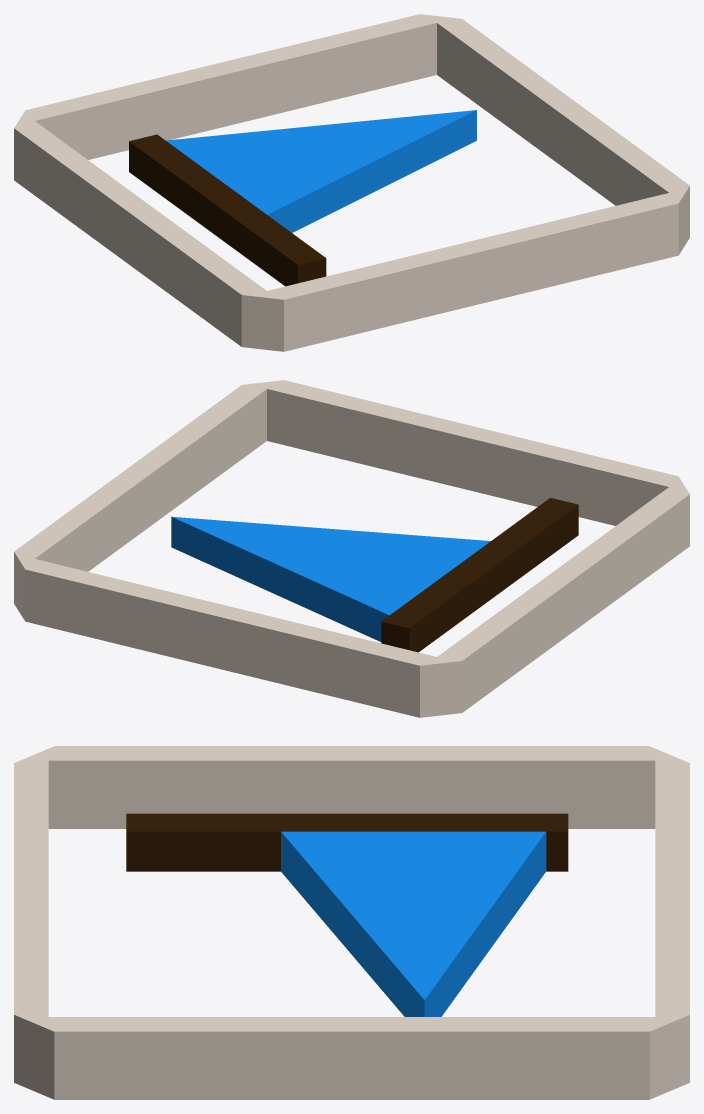
File: bonus_ship.glb
The picture shows the model from 3 angles, top to bottom: view 1: azimuth 30°, elevation 25°; view 2: azimuth 150°, elevation 25°; view 3: azimuth 270°, elevation 25°; orthographic projection. The views are drawn at different scales.
Visible parts, largest first — view 1: bonus_ship; view 2: bonus_ship; view 3: bonus_ship.
Part boxes in pixels (<box>): bonus_ship: <box>14,14,689,351</box>; bonus_ship: <box>14,380,689,717</box>; bonus_ship: <box>14,746,689,1099</box>.
Size of the model in its own units: 1.8 by 0.2 by 1.8.
Materials: 1 (1 with a texture image).
